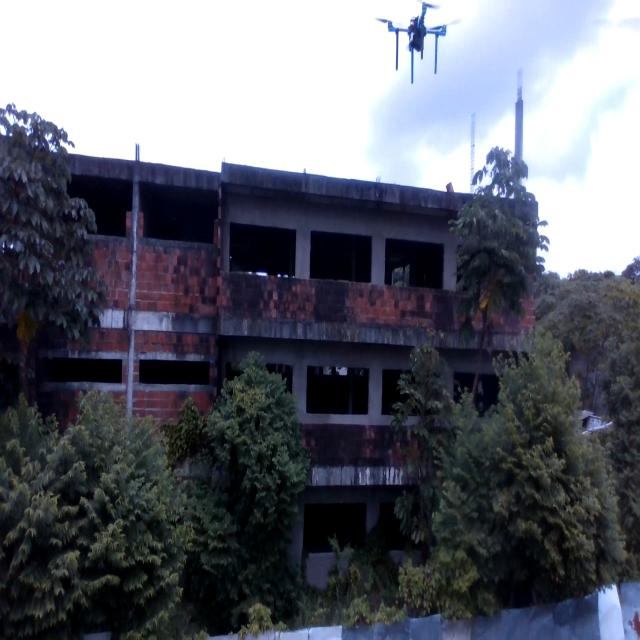-uav-: (372, 6, 469, 83)
